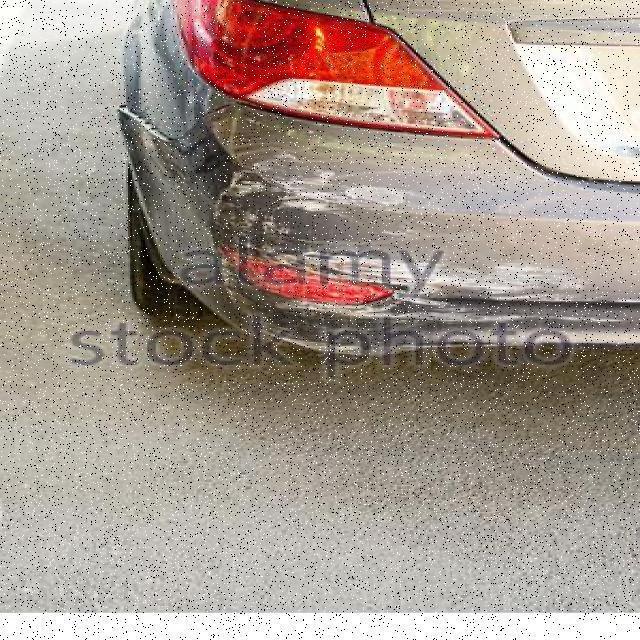rear-bumper-dent: (98, 108, 638, 352)
